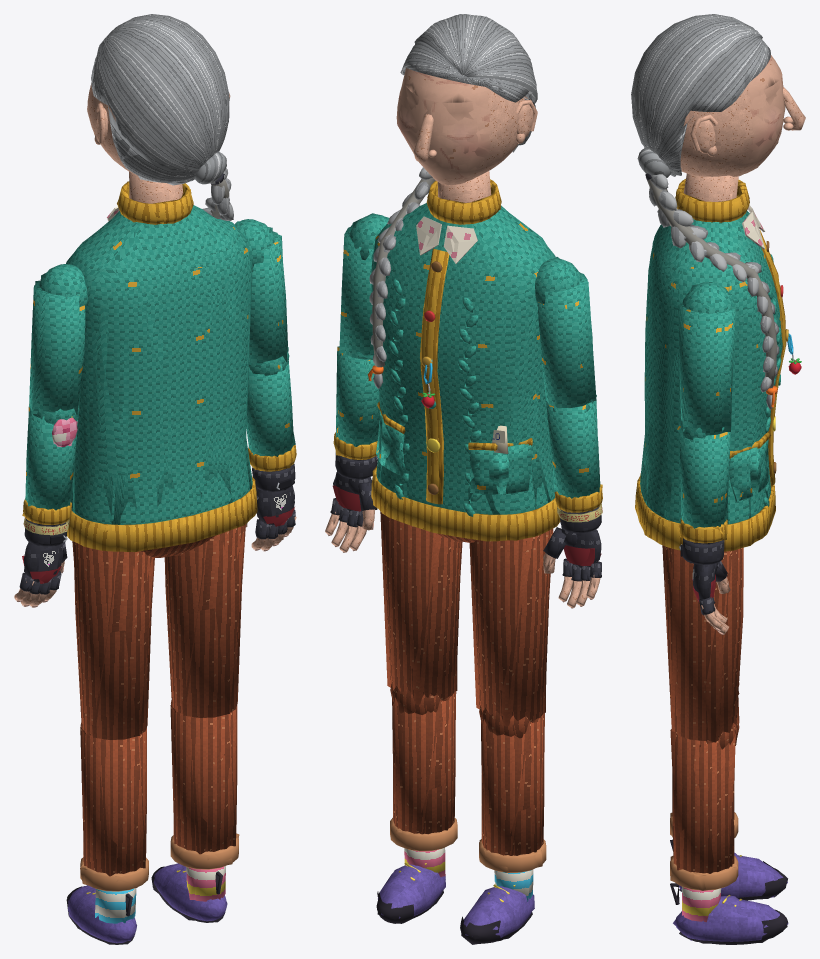
The model's file is c_mina.glb.
3 views of the same model, side by side, from view 1: azimuth 30°, elevation 25°; view 2: azimuth 150°, elevation 25°; view 3: azimuth 270°, elevation 25° (orthographic).
Visible parts, largest first — view 1: part_spine, part_spine__lod, part_head, part_kneeR, part_kneeL, part_legL, part_legR, part_head__lod, part_armL, part_foreL, part_arm, part_foreR (+11 smaller); view 2: part_spine, part_spine__lod, part_head, part_legL, part_legR, part_kneeR, part_kneeL, part_head__lod, part_armL, part_foreL, part_kneeL__lod, part_kneeR__lod (+12 smaller); view 3: part_spine, part_head, part_kneeR, part_spine__lod, part_head__lod, part_legR, part_arm, part_foreR, part_legR__lod, part_kneeR__lod, part_handR, part_arm__lod (+4 smaller).
Part boxes in pixels (bbox=[...]): part_spine: bbox=[66, 167, 257, 551]; part_spine__lod: bbox=[69, 170, 255, 552]; part_head: bbox=[87, 14, 230, 185]; part_kneeR: bbox=[151, 700, 238, 922]; part_kneeL: bbox=[66, 723, 148, 944]; part_legL: bbox=[73, 541, 154, 739]; part_legR: bbox=[164, 524, 245, 717]; part_head__lod: bbox=[87, 14, 229, 183]; part_armL: bbox=[29, 264, 87, 412]; part_foreL: bbox=[23, 405, 79, 524]; part_arm: bbox=[235, 219, 288, 364]; part_foreR: bbox=[246, 351, 296, 471]; part_spine: bbox=[367, 168, 560, 541]; part_spine__lod: bbox=[368, 167, 556, 541]; part_head: bbox=[397, 14, 537, 185]; part_legL: bbox=[474, 528, 553, 722]; part_legR: bbox=[385, 515, 462, 700]; part_kneeR: bbox=[376, 684, 457, 923]; part_kneeL: bbox=[460, 705, 546, 943]; part_head__lod: bbox=[396, 14, 537, 185]; part_armL: bbox=[535, 258, 592, 407]; part_foreL: bbox=[546, 399, 602, 512]; part_kneeL__lod: bbox=[461, 713, 544, 944]; part_kneeR__lod: bbox=[377, 691, 456, 923]; part_spine: bbox=[635, 173, 801, 551]; part_head: bbox=[631, 14, 805, 177]; part_kneeR: bbox=[670, 717, 788, 944]; part_spine__lod: bbox=[637, 173, 801, 535]; part_head__lod: bbox=[631, 14, 803, 177]; part_legR: bbox=[663, 546, 743, 740]; part_arm: bbox=[679, 282, 735, 435]; part_foreR: bbox=[680, 420, 730, 543]; part_legR__lod: bbox=[662, 545, 739, 742]; part_kneeR__lod: bbox=[670, 719, 788, 943]; part_handR: bbox=[679, 538, 729, 634]; part_arm__lod: bbox=[678, 281, 737, 431].
Size of the model in its own units: 0.5483 by 1.73 by 0.305.
Materials: 35 (17 with a texture image).
